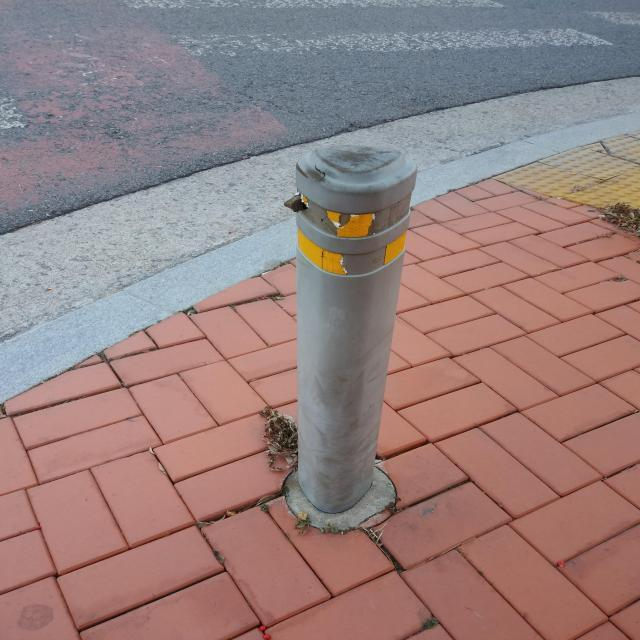pole: (295, 135, 418, 516)
